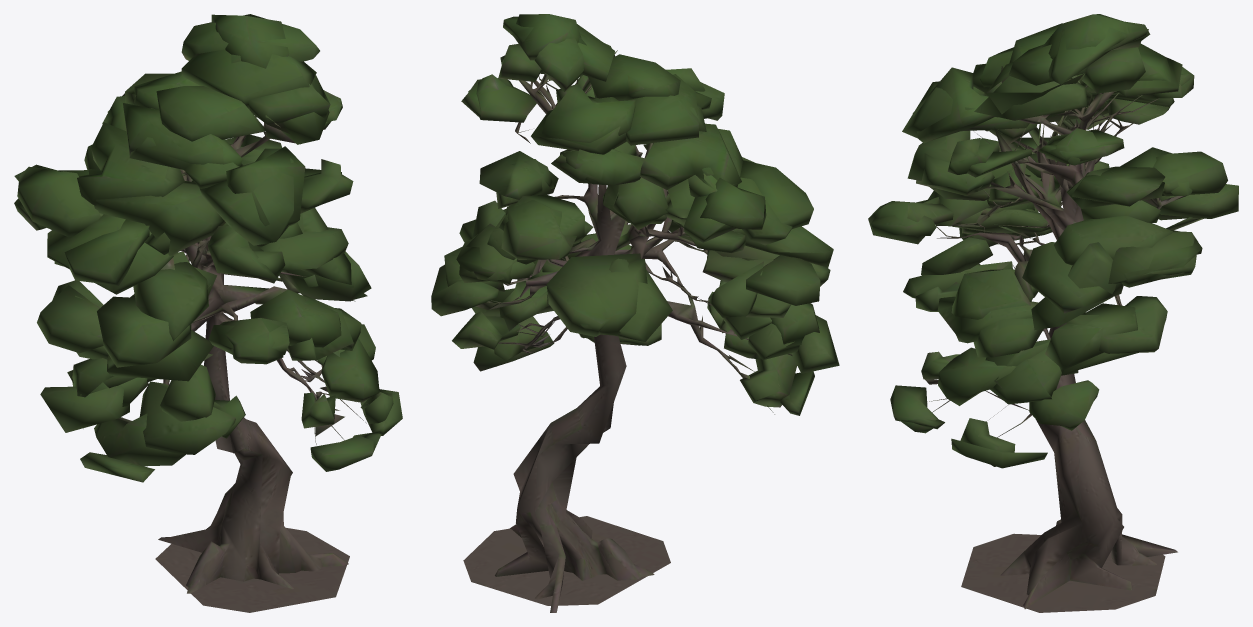
File: cypress_tree.glb
3 renders of one model, left to right at view 1: azimuth 30°, elevation 25°; view 2: azimuth 150°, elevation 25°; view 3: azimuth 270°, elevation 25°, orthographic. The views are drawn at different scales.
Bounding box in the file's own units: 5.41 × 8 × 4.8.
Materials: 1 (1 with a texture image).
